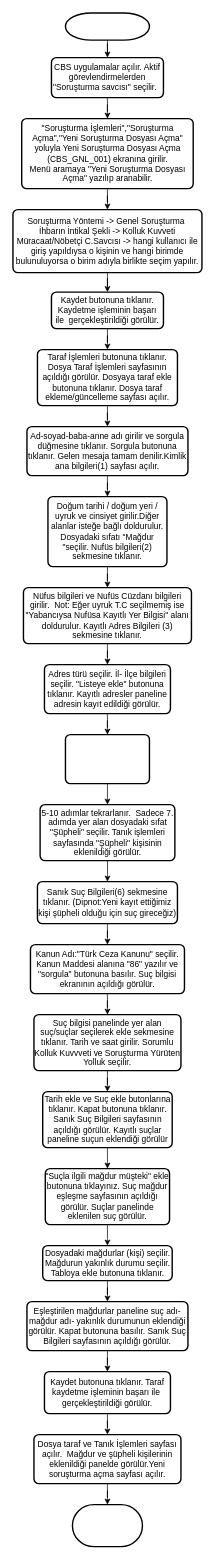
Some shapes in this 214 by 1559 pixel diagram are drawn without their labels. The box of each missing label's shape, as (x1, y1, x2, y2) in pixels:
Başla: (64, 12, 150, 40)
Bitir: (71, 1504, 143, 1547)
Dosya taraf ve Tanık İşlemleri sayfasına "Mağdur" kişisinin eklenildiği görülür.: (64, 734, 150, 784)
